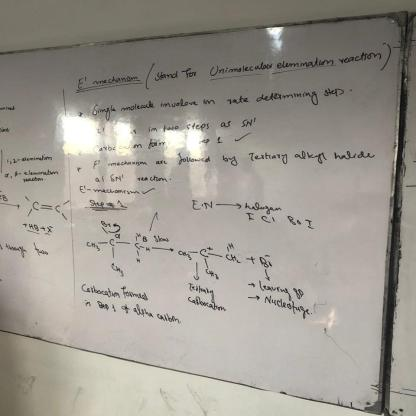Handwritten text: (83, 83, 351, 120), (150, 46, 388, 87), (101, 144, 381, 171)
